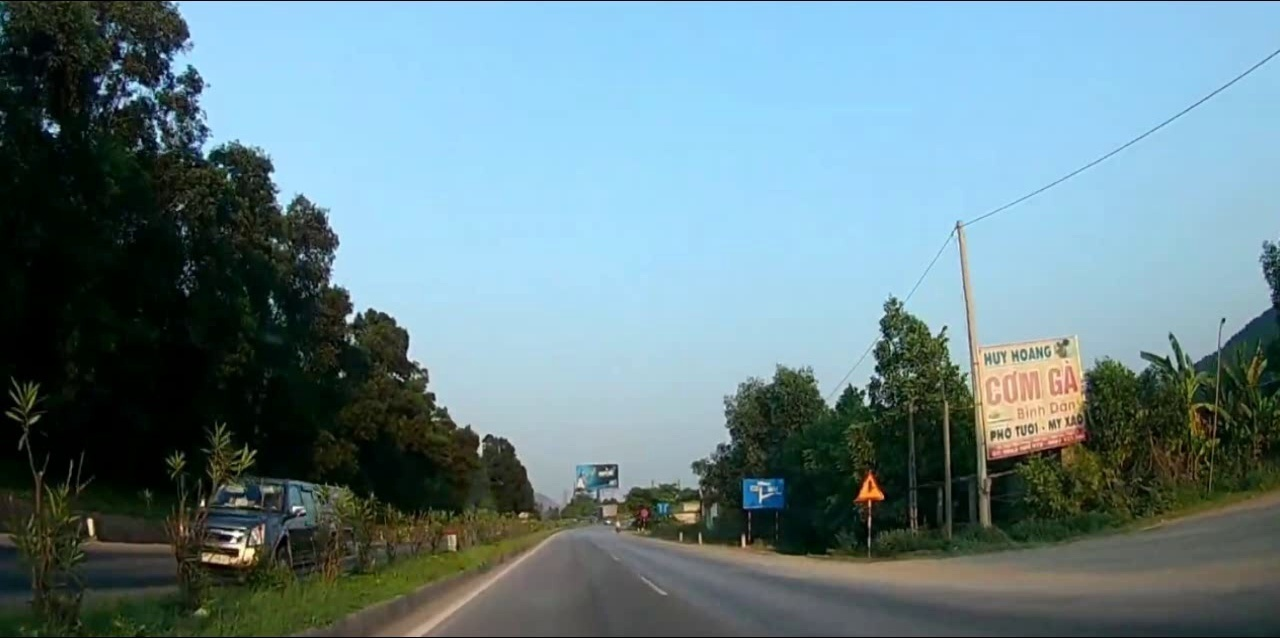Giao nhau voi duong khong uu tien: (852, 468, 885, 503)
